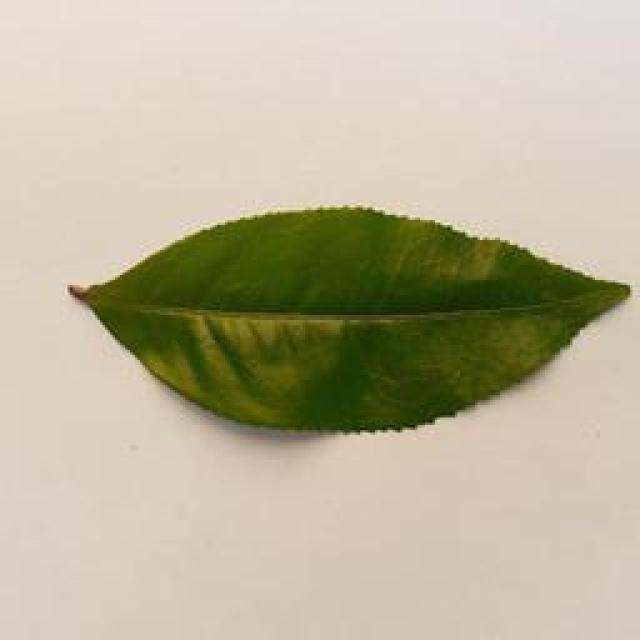Healthy: (72, 200, 633, 440)
